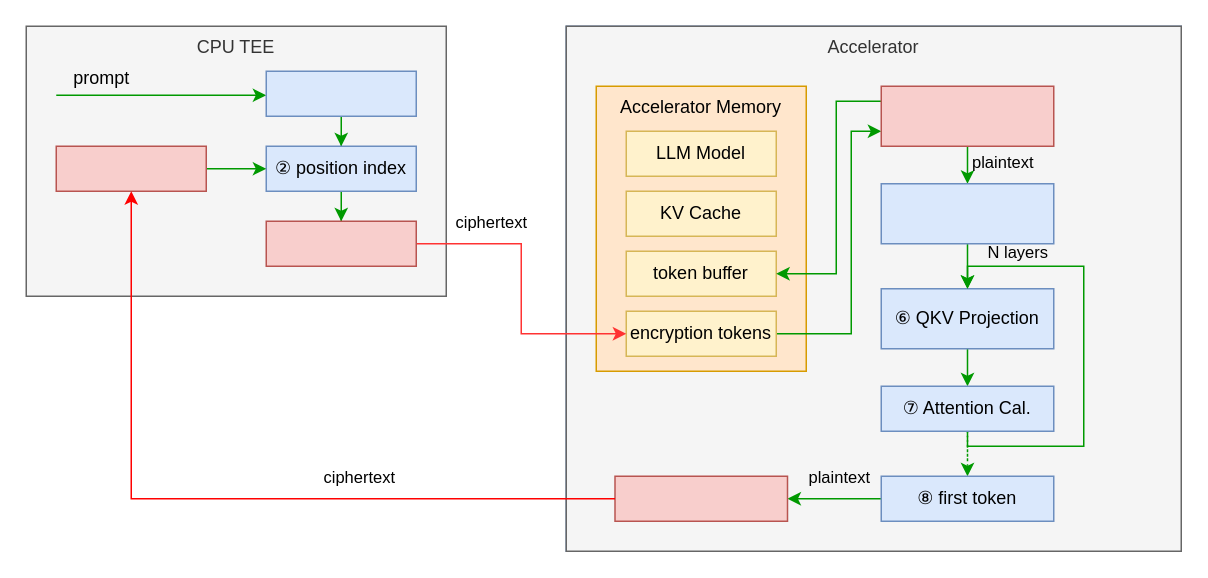
The diagram is 1208 pixels wide and 578 high, and some of its shapes have lost their labels. The shapes that lost their labels are listed below. From the top down, each one's centre as x and y in pixels, then its label:
At pixel 340 93: "① tokenization".
At pixel 967 115: "④ decryption".
At pixel 130 168: "⑩ decryption".
At pixel 967 213: "⑤ embedding".
At pixel 340 243: "③ encryption".
At pixel 701 498: "⑨ encryption".
